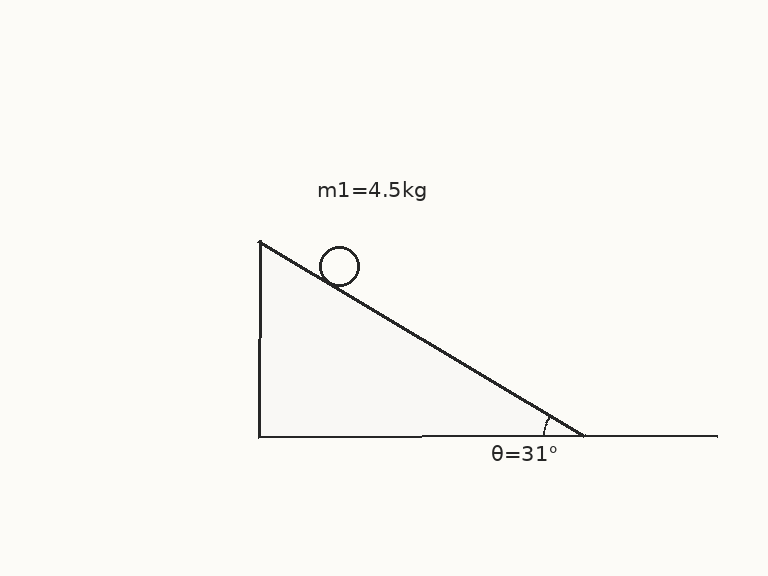ball: (317, 244, 361, 288)
ramp: (257, 239, 586, 438)
